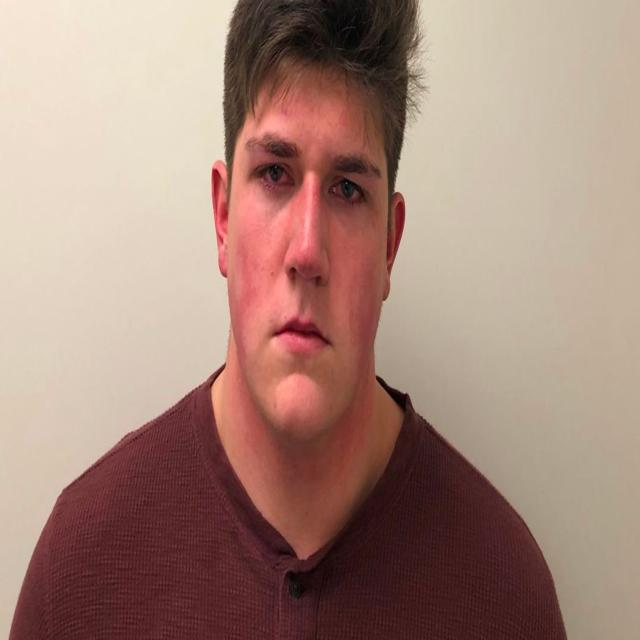mobile_phonerotation: (8, 1, 569, 637)
